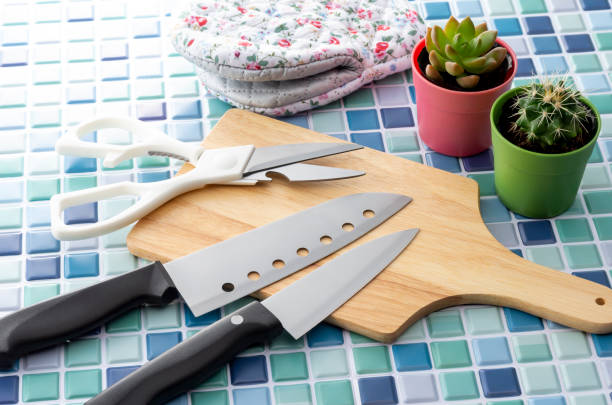knife: (1, 191, 415, 370), (79, 226, 421, 404)
